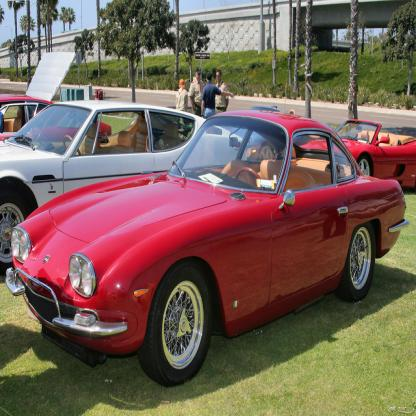Car: (1, 100, 244, 276), (300, 120, 416, 193), (1, 74, 113, 141), (222, 106, 283, 160)
